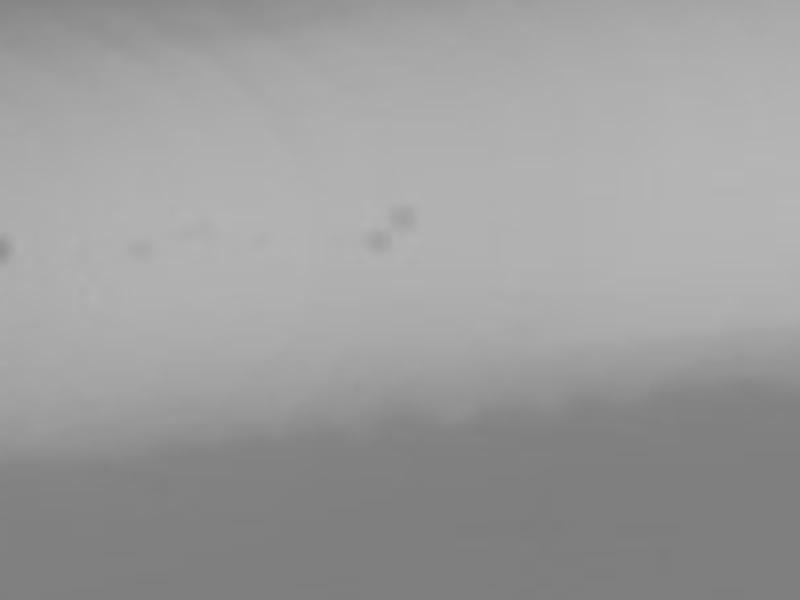defect: (391, 202, 422, 234), (367, 228, 396, 259), (128, 241, 162, 262), (1, 230, 12, 271)
